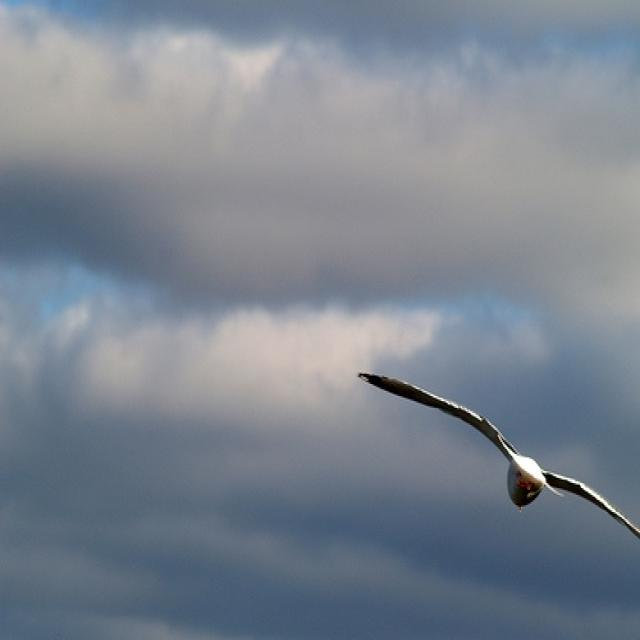bird: (358, 372, 640, 541)
